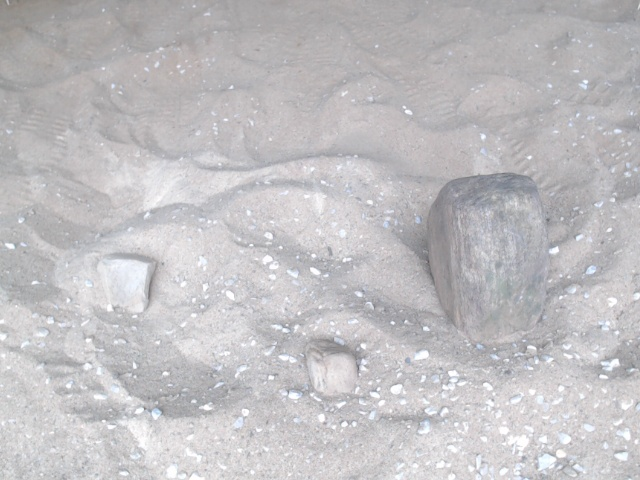rock: (421, 167, 554, 353), (92, 249, 162, 319), (300, 335, 362, 403)
